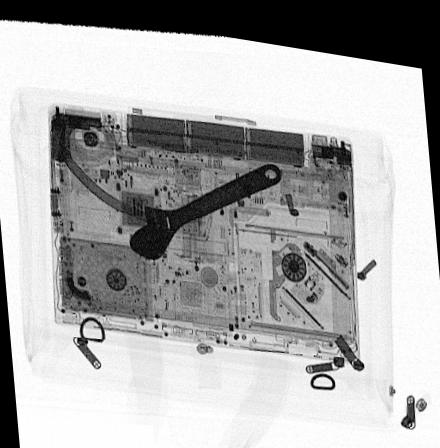Wrench: (127, 150, 282, 255)
